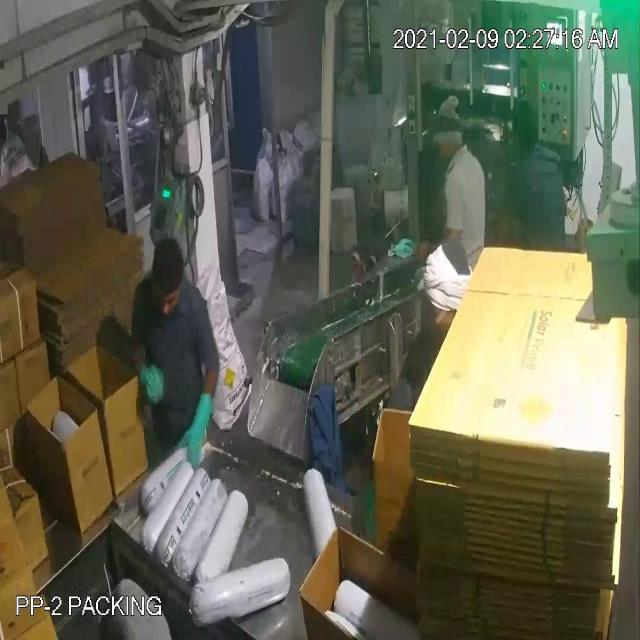Gloves: (46, 66, 196, 430)
